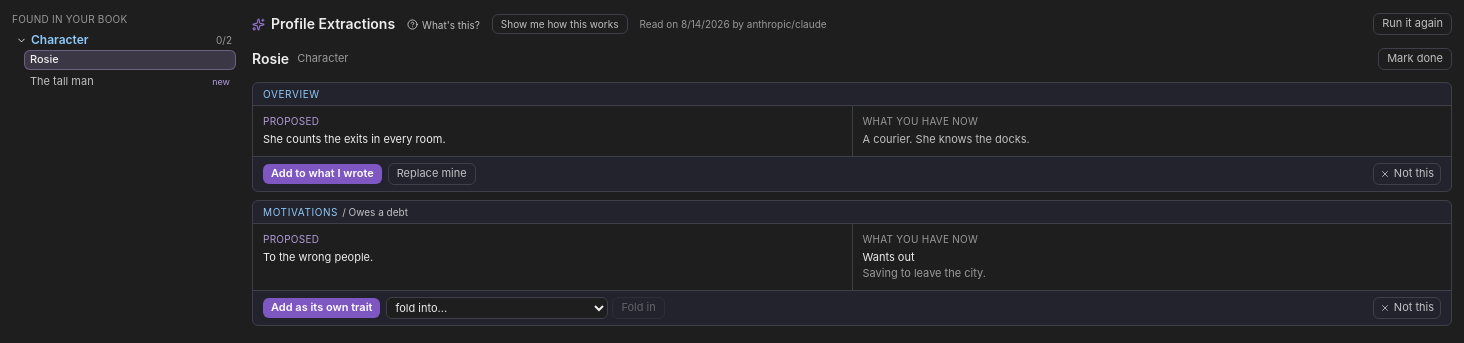
Test: a character the book describes but never names › keeps the description as the name and says why
Click the button "The tall man new".
click(130, 82)  # box [24,72,236,92]
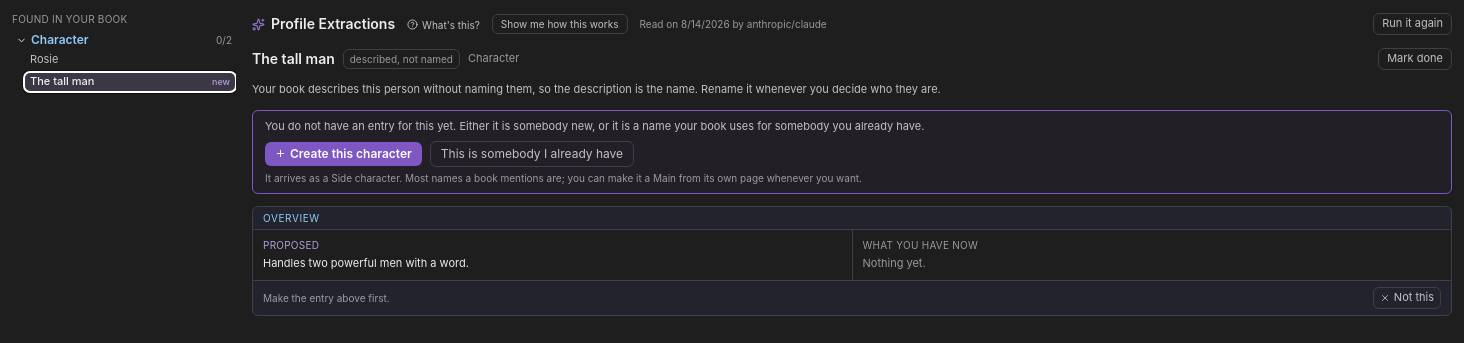
Check: the text with test id "extractor-unnamed" reads "described, not named", box [350,53,453,65]
Check: the element with test id "extractor-review" shows "describes this person without naming them", box [252,82,941,96]
